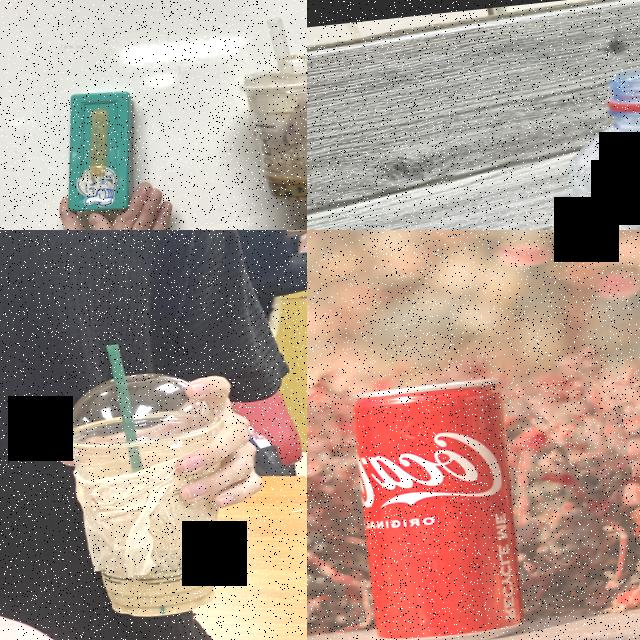bottle: (545, 57, 640, 230)
can: (348, 373, 531, 640)
cup: (47, 363, 246, 628), (236, 60, 307, 207)
